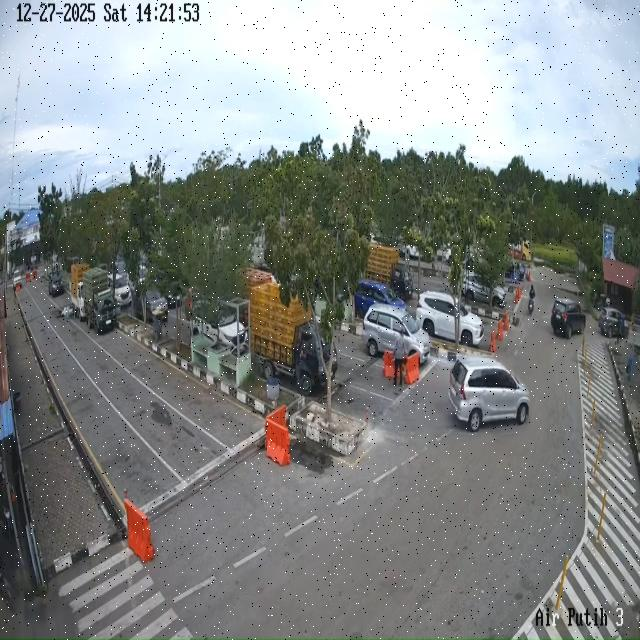Golongan IVA: (448, 356, 530, 432), (362, 304, 430, 364), (416, 291, 484, 347), (192, 304, 248, 352), (354, 279, 406, 318), (462, 272, 506, 308), (551, 298, 586, 339), (132, 288, 168, 322), (598, 307, 629, 338), (108, 273, 132, 307), (48, 271, 64, 297)
Golongan IVB: (252, 283, 341, 396), (79, 267, 117, 334), (73, 263, 94, 321)
